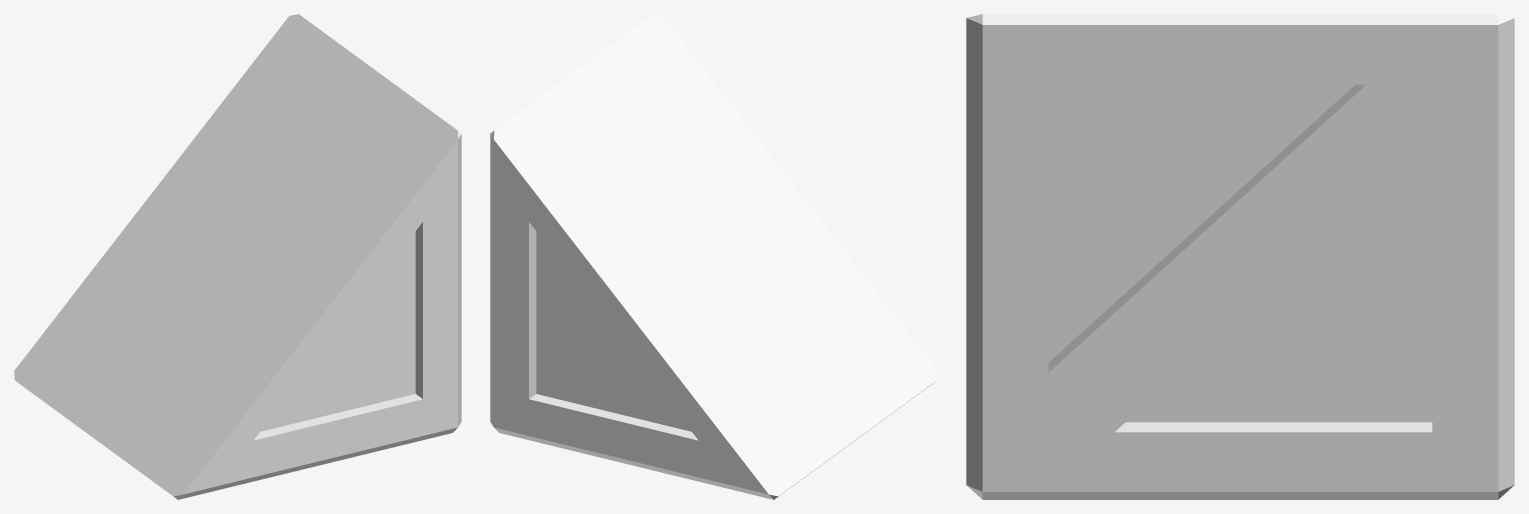
The model's file is Slope.fbx.
3 views of the same model, side by side, from view 1: azimuth 30°, elevation 25°; view 2: azimuth 150°, elevation 25°; view 3: azimuth 270°, elevation 25° (orthographic). The views are drawn at different scales.
Parts seen in each view (by area): view 1: Slope; view 2: Slope; view 3: Slope.
Boxes of the visible parts, x1=… form: Slope: x1=14, y1=14, x2=461, y2=499; Slope: x1=490, y1=14, x2=937, y2=499; Slope: x1=966, y1=14, x2=1514, y2=499.
Size of the model in its own units: 0.985 by 0.985 by 1.
